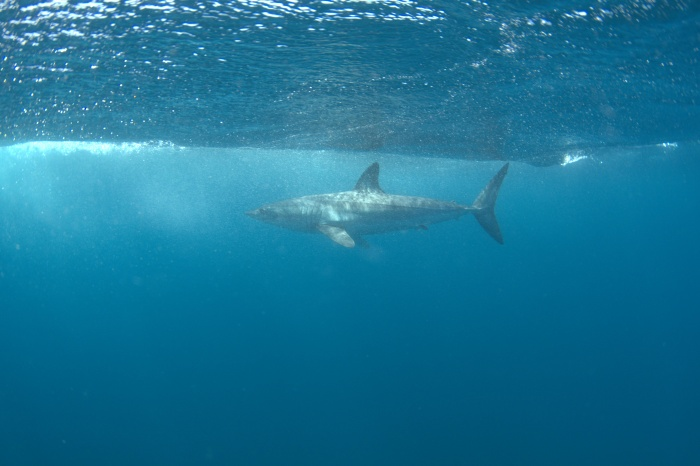Mako: (237, 154, 520, 255)
